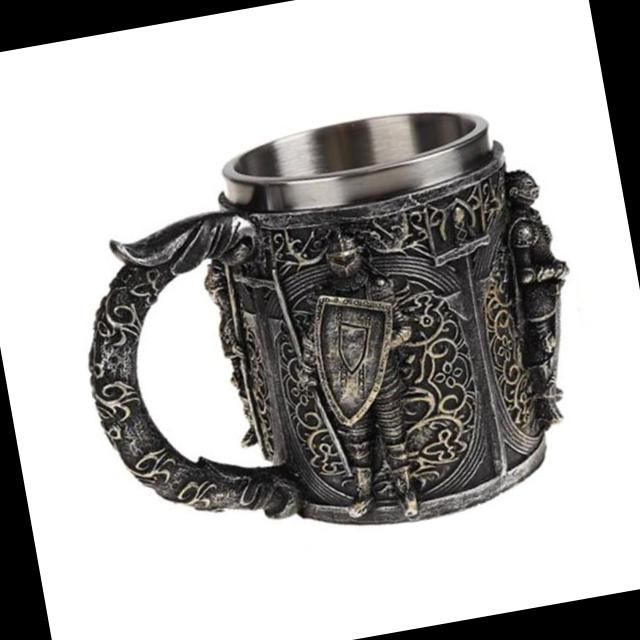Coffee Mug: (52, 85, 610, 576)
